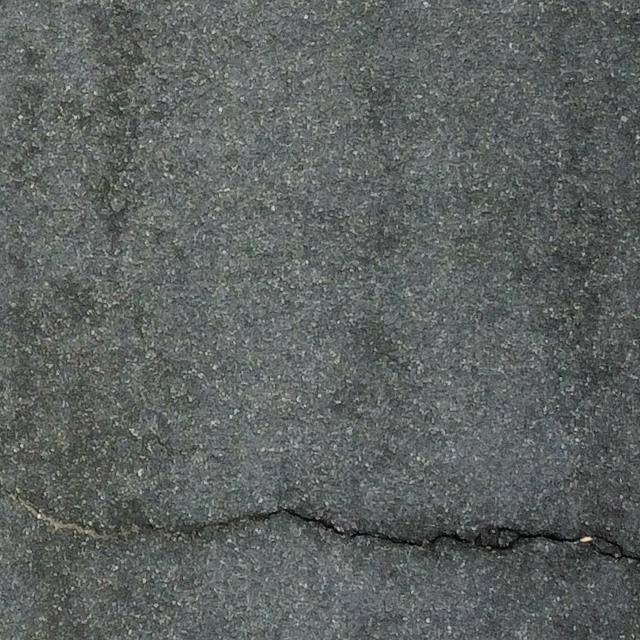TransverseCrack: (1, 490, 640, 561)
